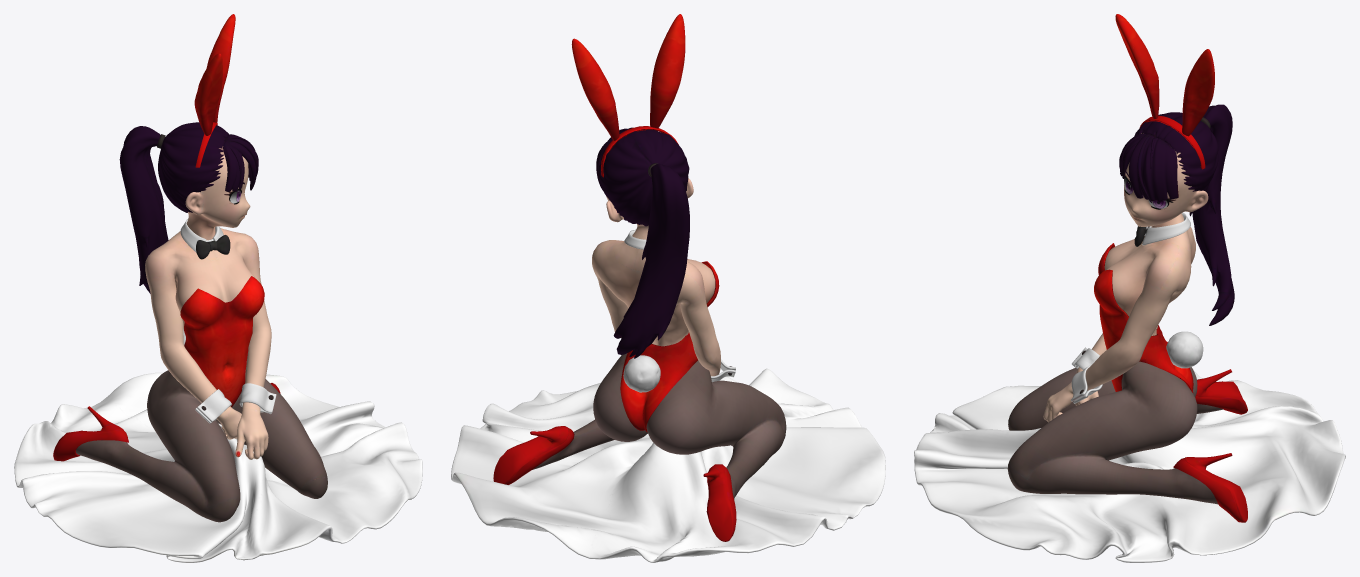
The picture shows the model from 3 angles, left to right: view 1: azimuth 30°, elevation 25°; view 2: azimuth 150°, elevation 25°; view 3: azimuth 270°, elevation 25°; orthographic projection. The views are drawn at different scales.
Parts seen in each view (by area): view 1: Red_Body; view 2: Red_Body; view 3: Red_Body.
Boxes of the visible parts, x1=… form: Red_Body: x1=14, y1=14, x2=422, y2=562; Red_Body: x1=451, y1=14, x2=885, y2=562; Red_Body: x1=914, y1=14, x2=1345, y2=562.
Bounding box in the file's own units: 1.14 × 1.34 × 1.14.
Materials: 2 (2 with a texture image).
